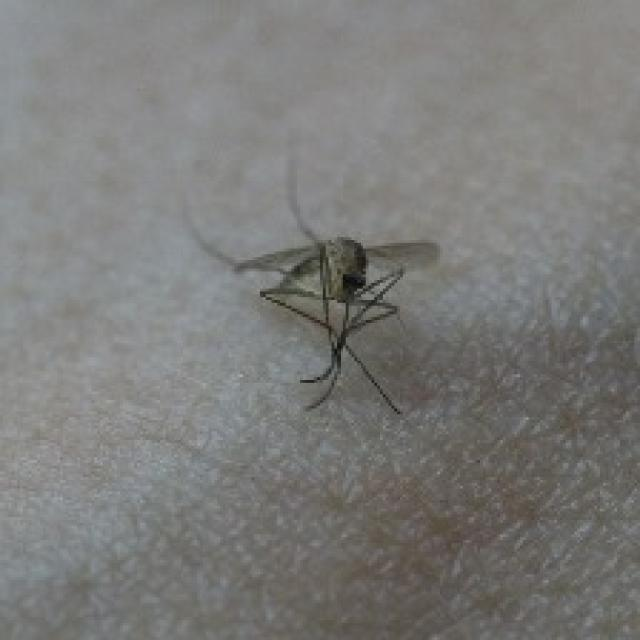culex: (180, 137, 440, 414)
